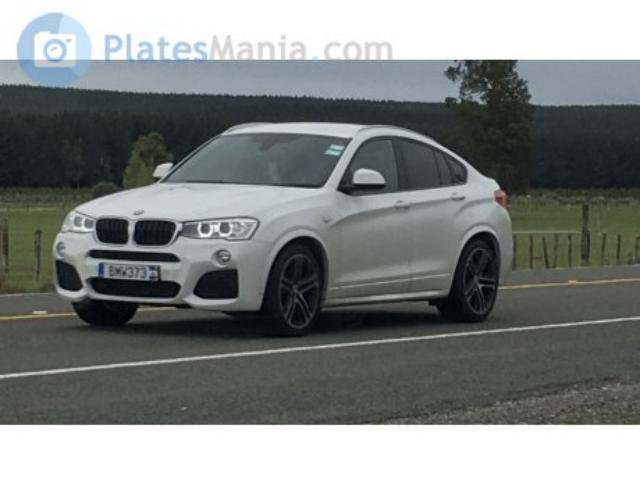Rego: (97, 261, 160, 283)
